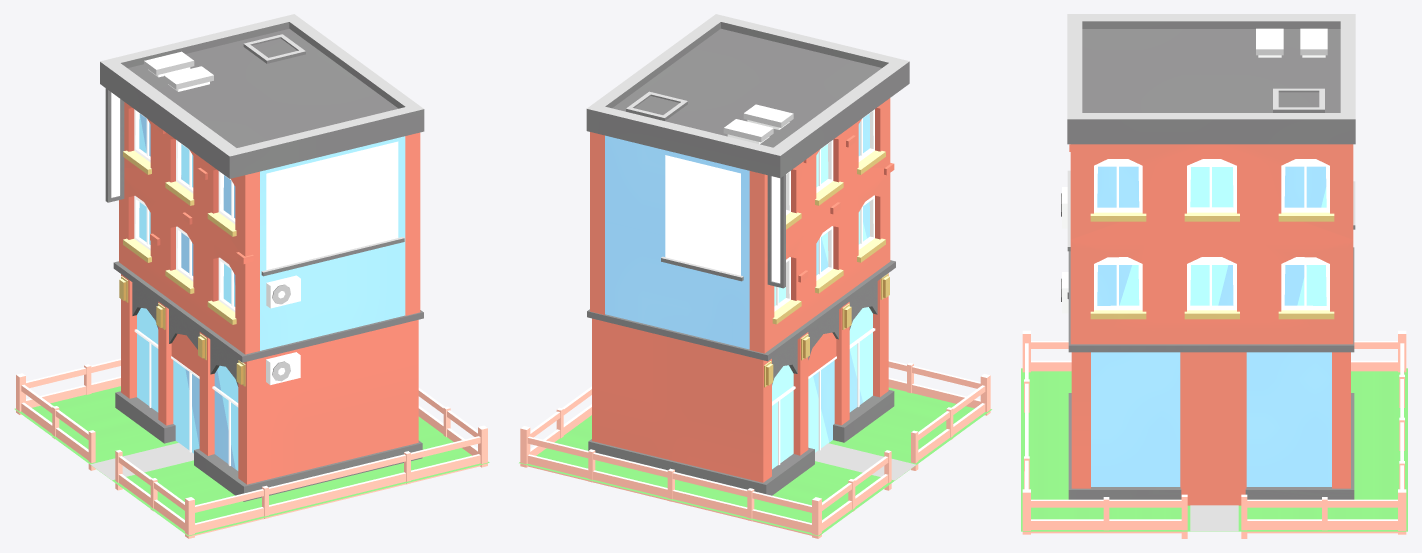
3 views of the same model, side by side, from view 1: azimuth 30°, elevation 25°; view 2: azimuth 150°, elevation 25°; view 3: azimuth 270°, elevation 25° (orthographic). The views are drawn at different scales.
Parts seen in each view (by area): view 1: hotel.007 (4), tile_for_home_1x1.002 (13); view 2: hotel.007 (4), tile_for_home_1x1.002 (13); view 3: hotel.007 (4), tile_for_home_1x1.002 (13).
Boxes of the visible parts, box(x1,y1,x2,y2) form: hotel.007 (4): box(100, 14, 424, 501); tile_for_home_1x1.002 (13): box(14, 358, 489, 538); hotel.007 (4): box(586, 14, 909, 495); tile_for_home_1x1.002 (13): box(519, 360, 991, 538); hotel.007 (4): box(1061, 14, 1355, 505); tile_for_home_1x1.002 (13): box(1021, 330, 1407, 538).
Size of the model in its own units: 8 by 9.1 by 8.
Materials: 1 (1 with a texture image).
